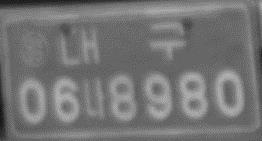0: (214, 69, 245, 118), (17, 78, 48, 125)
6: (51, 77, 82, 124)
8: (179, 71, 209, 120), (107, 74, 136, 121)
9: (143, 72, 173, 121)
나: (81, 77, 106, 120)
대구_D: (58, 18, 188, 68)
영: (18, 31, 50, 70)
